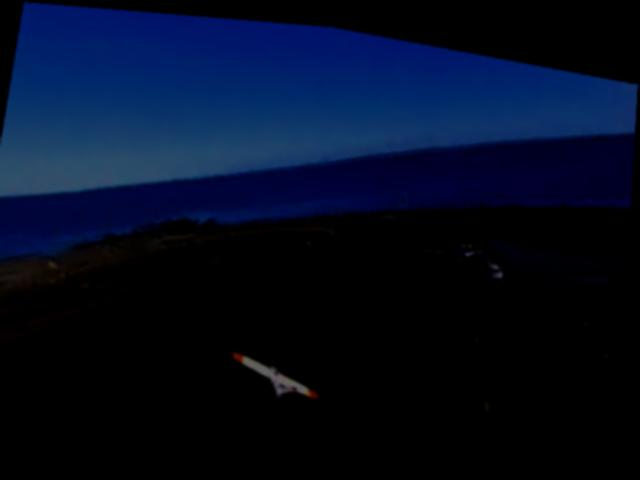uav: (228, 340, 335, 400)
